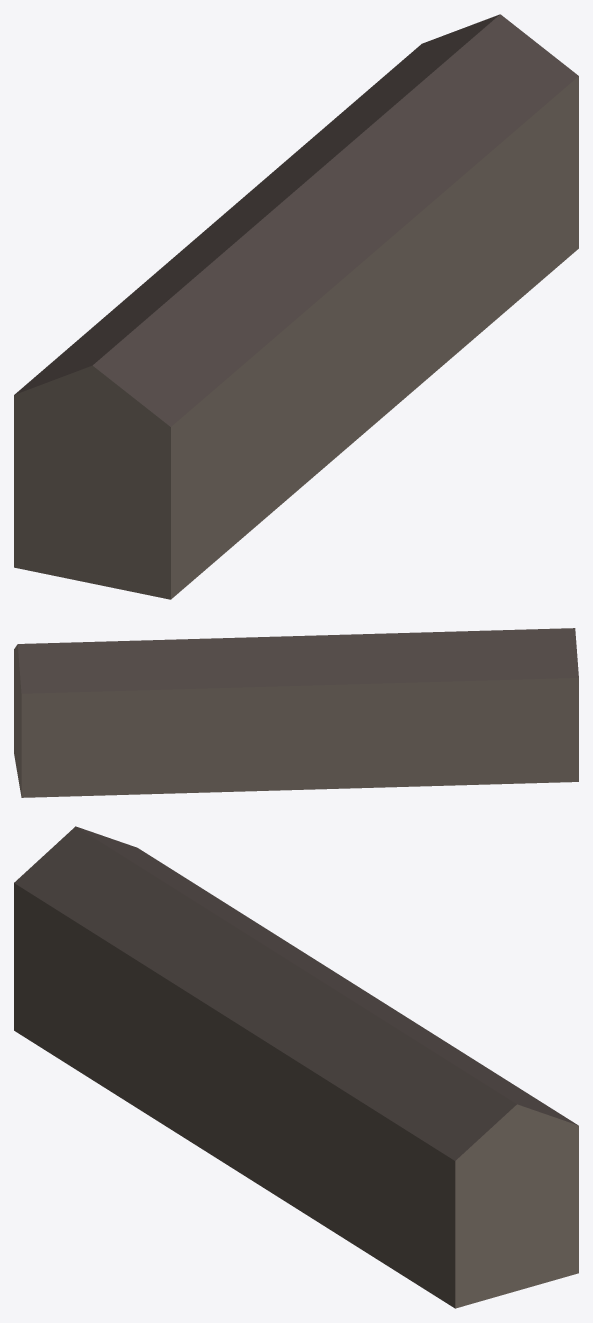
3 renders of one model, top to bottom at view 1: azimuth 30°, elevation 25°; view 2: azimuth 150°, elevation 25°; view 3: azimuth 270°, elevation 25°, orthographic. The views are drawn at different scales.
Parts seen in each view (by area): view 1: HP-w1287055053; view 2: HP-w1287055053; view 3: HP-w1287055053.
Part boxes in pixels (x1,y1,x2,y2): HP-w1287055053: (14,14,578,599); HP-w1287055053: (14,628,578,797); HP-w1287055053: (14,826,578,1308).
Bounding box in the file's own units: 40.99 × 11.38 × 31.23.
